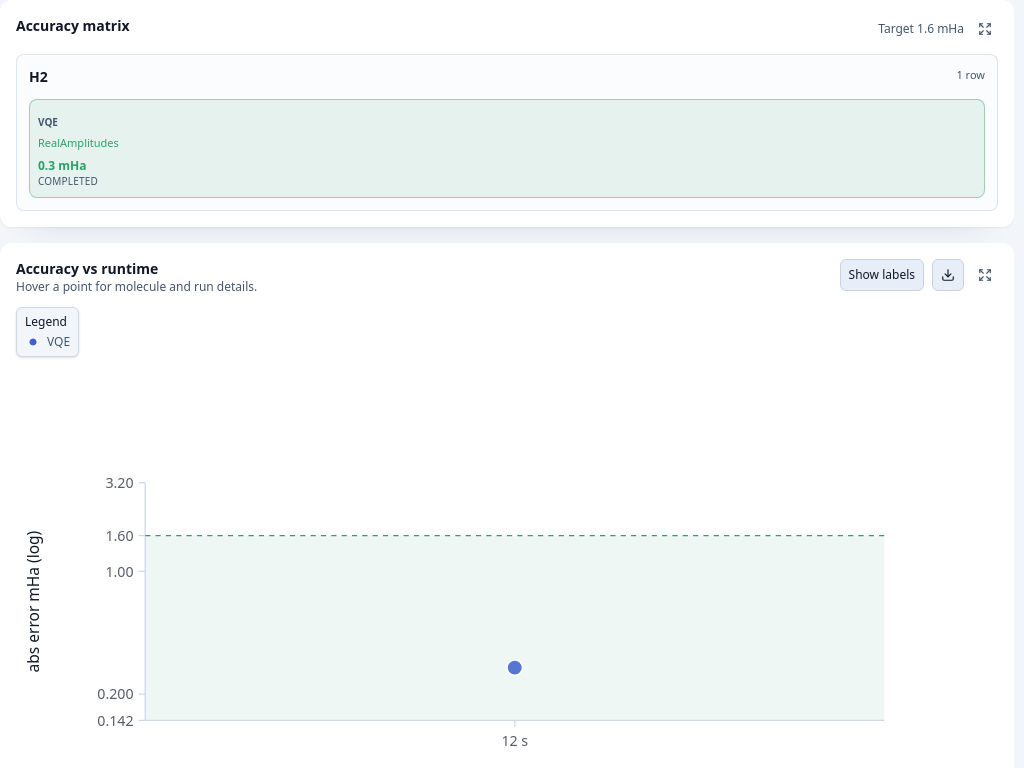
Test: BenchmarkInsights › opens the runtime scatter in a fullscreen dialog
The image size is (1024, 768).
Click the button named "expand accuracy vs runtime fullscreen" at (985, 275), box [972,262,998,288]
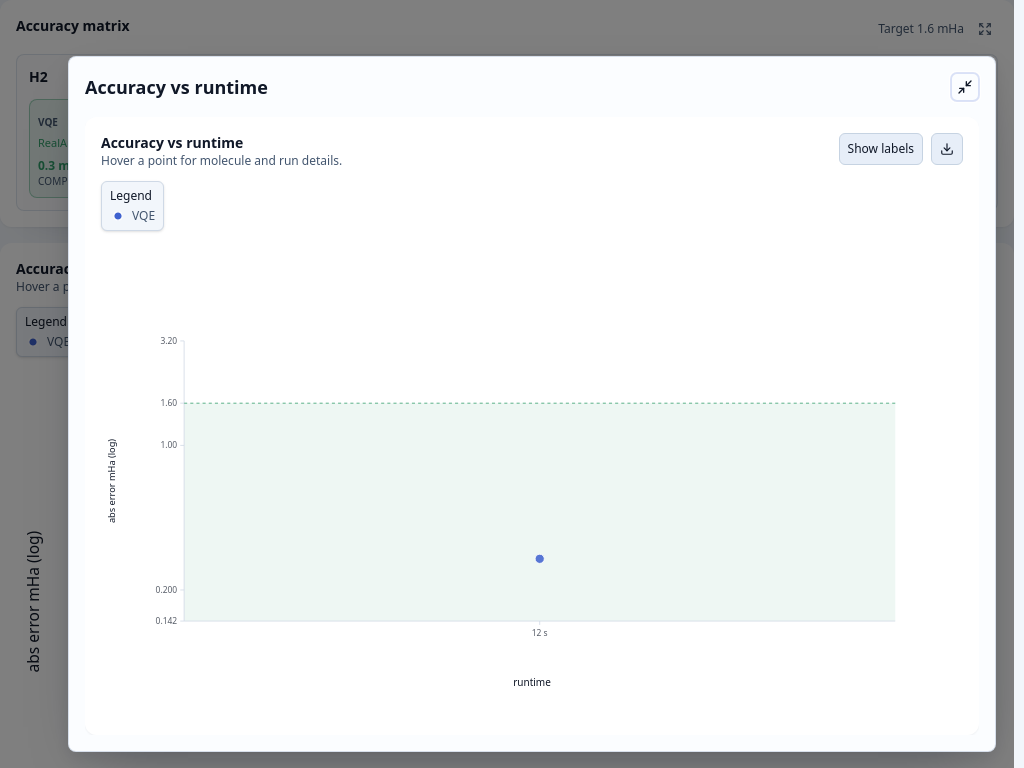
Expected: the dialog "Accuracy vs runtime" is shown
Expected: the picture named "benchmark accuracy versus runtime scatter plot" is shown, [101,243,963,719]
